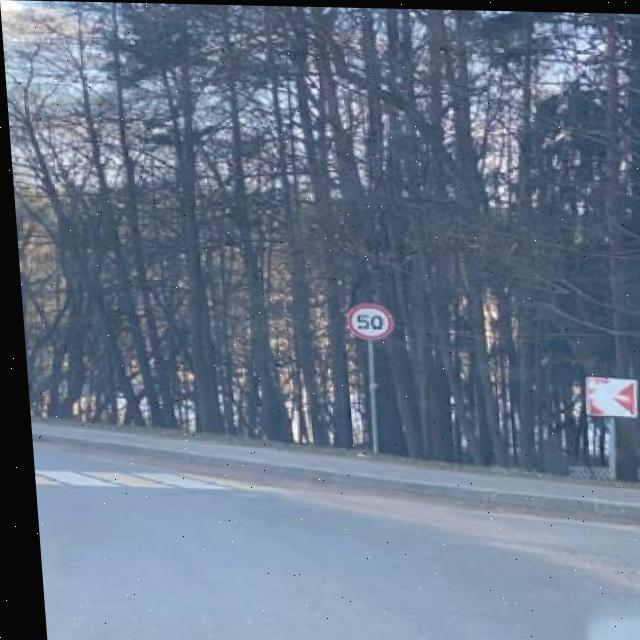Speed limit 50: (338, 297, 393, 343)
